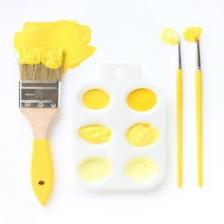yellow: (14, 20, 96, 73), (31, 140, 53, 206), (177, 42, 183, 189), (127, 123, 159, 147), (128, 89, 158, 111), (79, 125, 111, 144), (198, 69, 203, 187), (84, 90, 110, 109), (185, 27, 203, 42)
